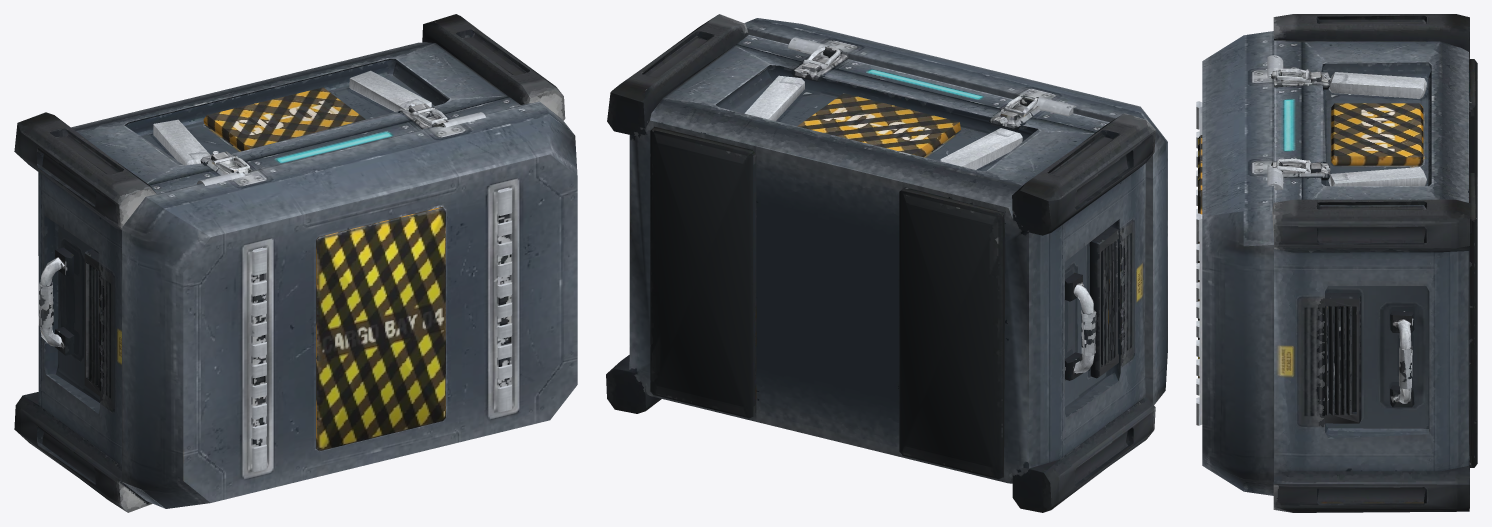
Rendered from sci_fi_crate_game.glb.
The picture shows the model from 3 angles, left to right: view 1: azimuth 30°, elevation 25°; view 2: azimuth 150°, elevation 25°; view 3: azimuth 270°, elevation 25°; orthographic projection. The views are drawn at different scales.
Parts seen in each view (by area): view 1: lid_mesh, SM_sci_fi_crate_Body; view 2: SM_sci_fi_crate_Body, lid_mesh; view 3: SM_sci_fi_crate_Body, lid_mesh.
Boxes of the visible parts, x1,y1,x2,y2 form: lid_mesh: [122, 101, 577, 508]; SM_sci_fi_crate_Body: [14, 14, 565, 512]; SM_sci_fi_crate_Body: [606, 14, 1155, 512]; lid_mesh: [744, 18, 1167, 404]; SM_sci_fi_crate_Body: [1269, 14, 1477, 512]; lid_mesh: [1196, 31, 1283, 495].
Size of the model in its own units: 0.9509 by 0.6289 by 0.531.
3 materials, 2 textured.
